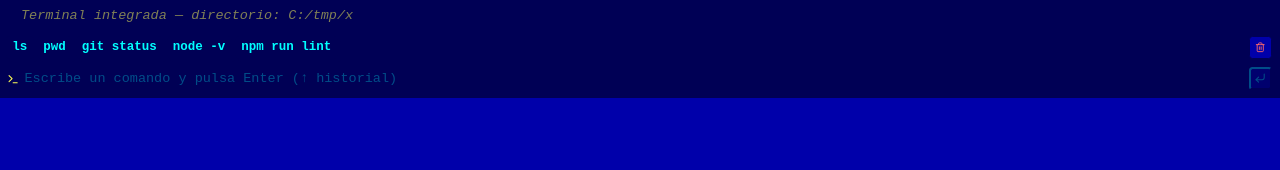
TerminalView › los comandos rápidos se ejecutan al clic
Click the button "pwd" at (54, 48), box left=37, top=36, right=72, bottom=59
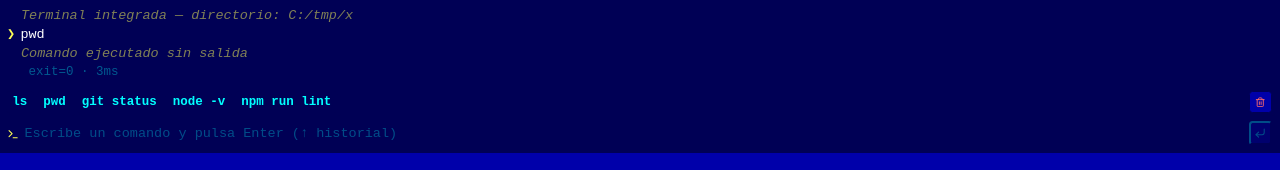
Check: the text "pwd" is shown, box left=20, top=26, right=45, bottom=45
